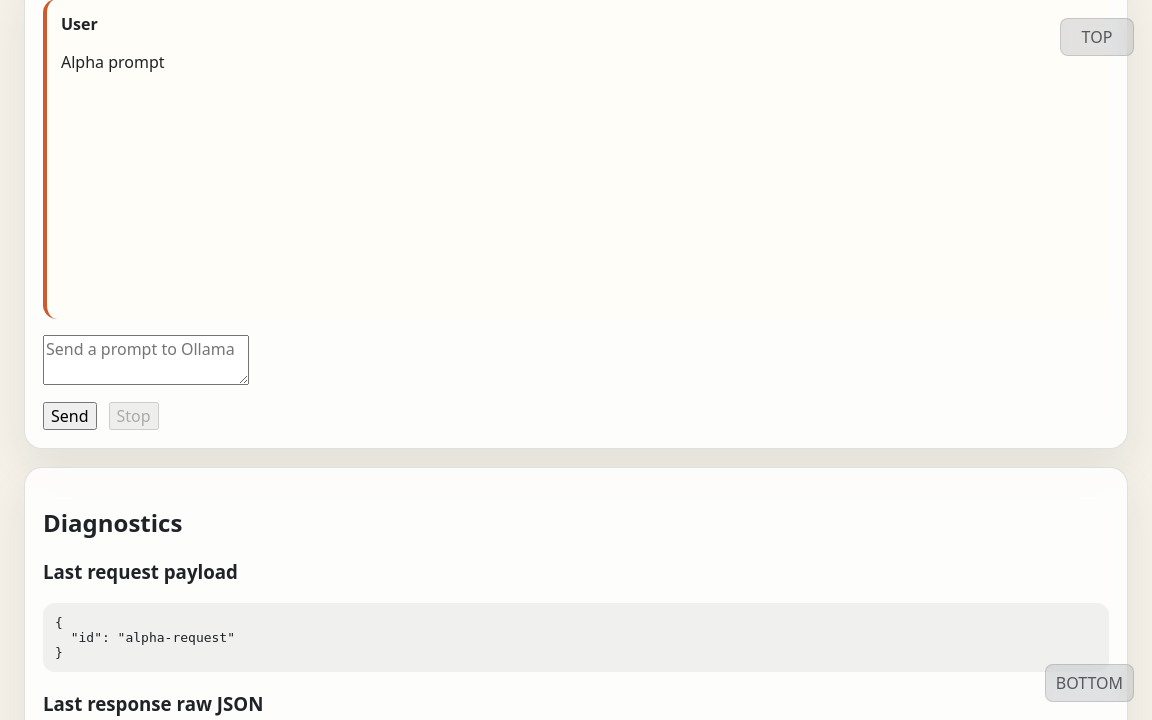
Test: App › sends a prompt and renders the assistant reply
(page scrolled)
Step 1. Type "Hello from the test" into the text box labelled "prompt" → (146, 360), box [43,335,249,385]
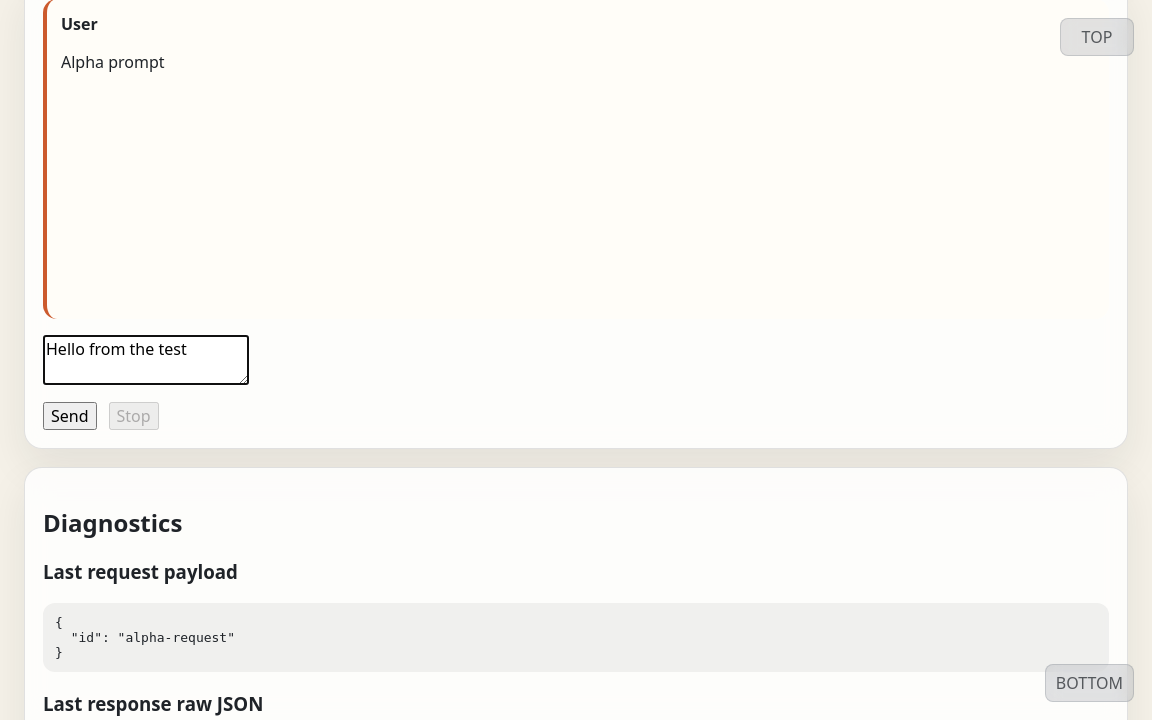
Step 2. Click the button "Send" → (70, 416), box [43,402,96,430]
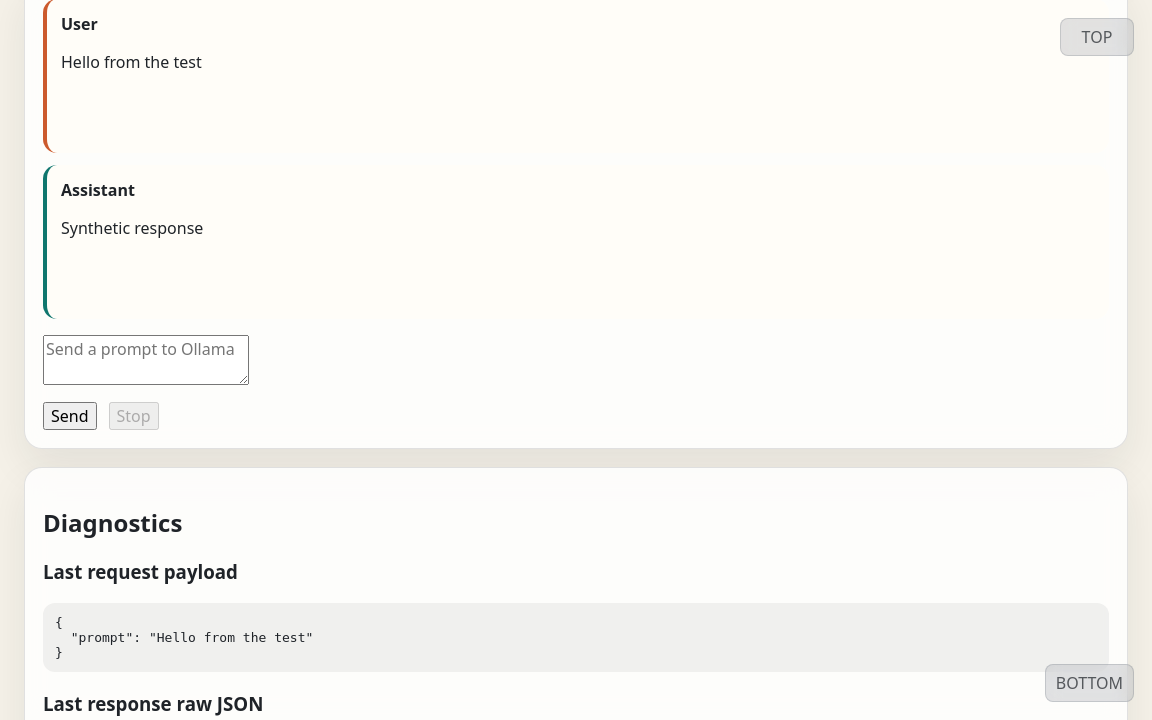
Result: the text "Synthetic response" is shown at [61,217,203,239]
